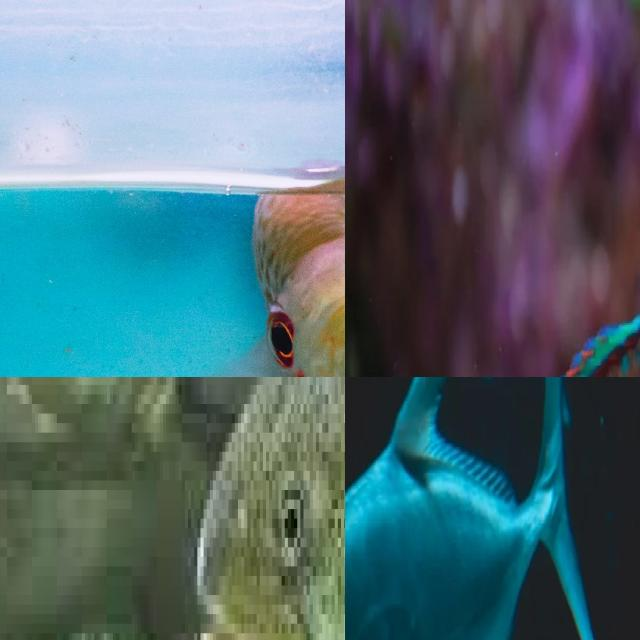fish: (0, 0, 345, 377), (178, 377, 345, 640), (345, 381, 505, 640)
